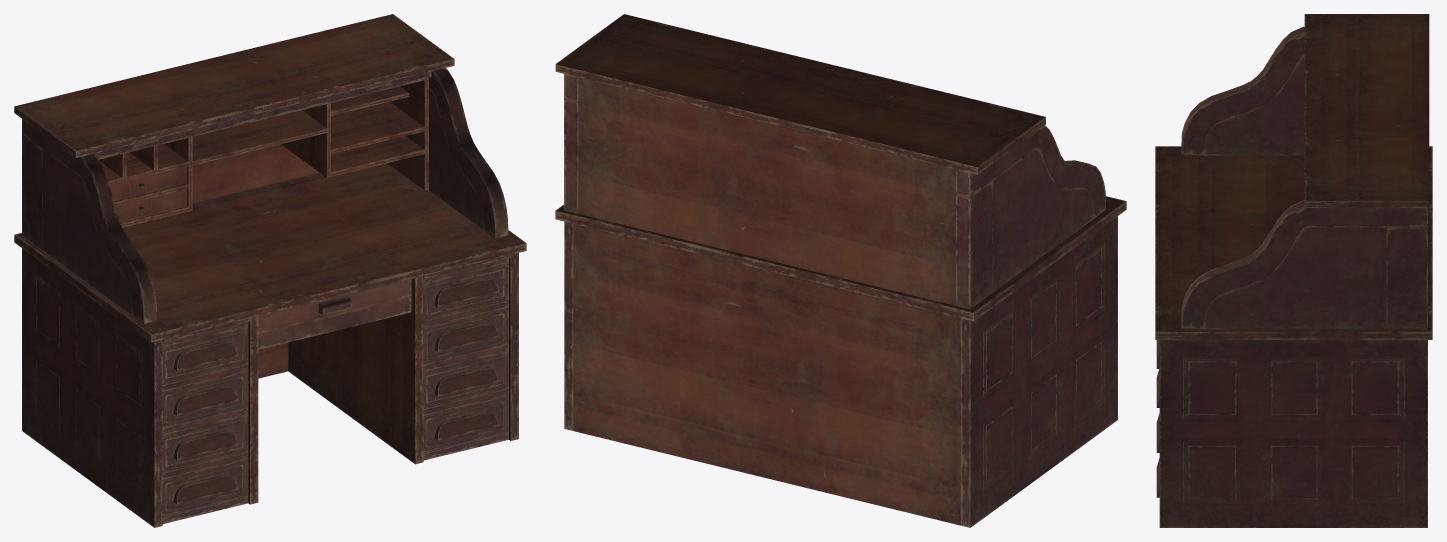
File: asylum_desk.obj
3 renders of one model, left to right at view 1: azimuth 30°, elevation 25°; view 2: azimuth 150°, elevation 25°; view 3: azimuth 270°, elevation 25°, orthographic. The views are drawn at different scales.
Parts seen in each view (by area): view 1: DeskMesh_2, Asylum_Furniture_Sets_03_4_2; view 2: DeskMesh_2; view 3: DeskMesh_2.
Part boxes in pixels (bbox=[...]): DeskMesh_2: bbox=[14, 14, 526, 527]; Asylum_Furniture_Sets_03_4_2: bbox=[109, 166, 411, 333]; DeskMesh_2: bbox=[555, 14, 1126, 527]; DeskMesh_2: bbox=[1155, 14, 1432, 527].
Bounding box in the file's own units: 114 × 93.91 × 71.12.
2 materials, 2 textured.
